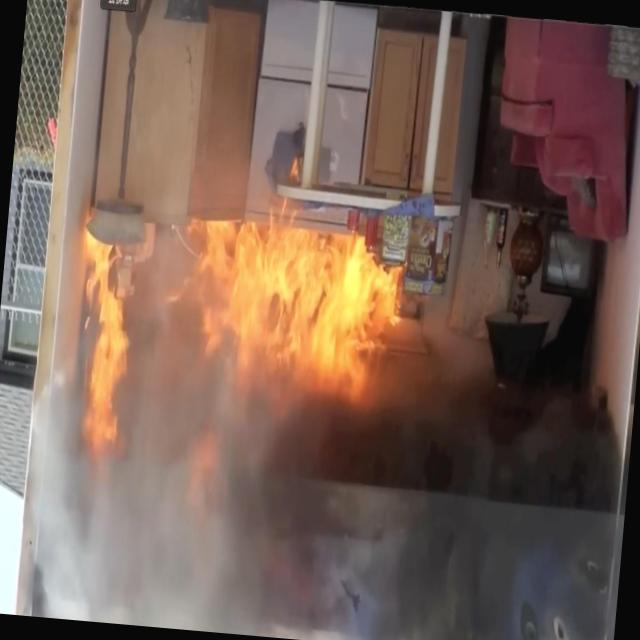fire: (63, 167, 403, 440)
smoke: (67, 435, 621, 640)
